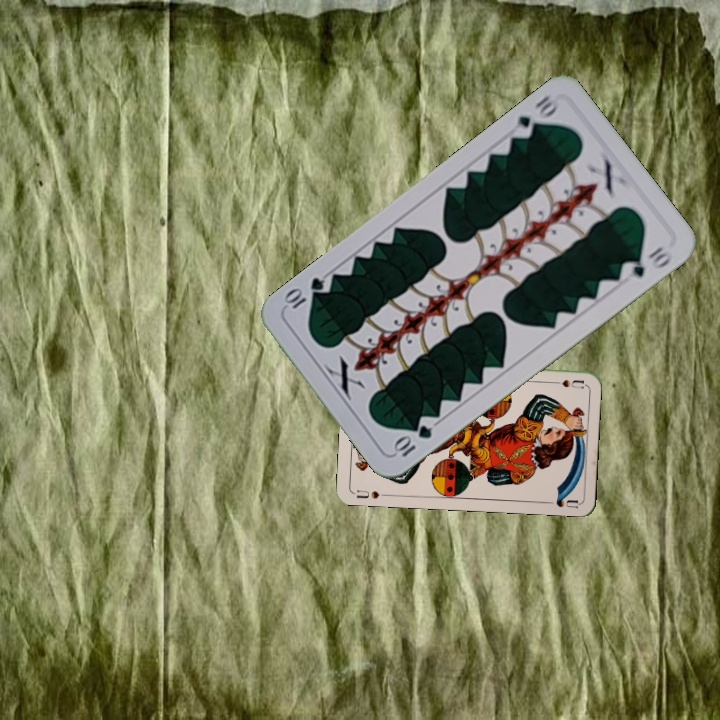G10: (508, 91, 561, 142), (389, 421, 435, 460)
SU: (545, 375, 586, 391), (350, 486, 391, 501)
